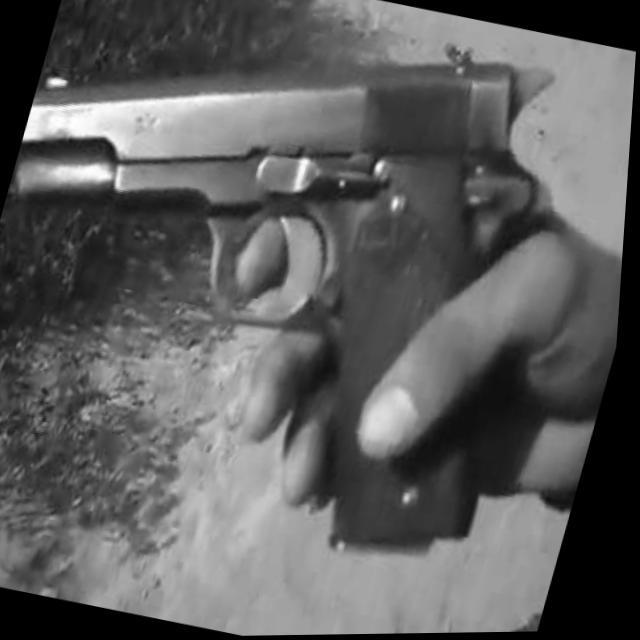weapon: (0, 0, 613, 591)
